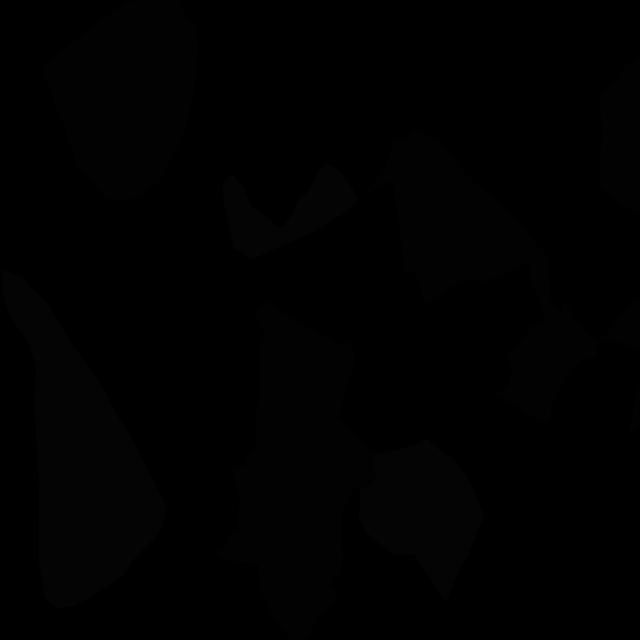cardboard: (369, 129, 565, 406), (216, 332, 375, 640), (42, 0, 198, 201), (254, 301, 355, 417), (518, 299, 599, 422), (599, 53, 640, 215), (601, 292, 640, 350), (627, 378, 640, 439)
soft_plastic: (2, 269, 167, 608), (359, 439, 484, 602), (222, 164, 359, 259)
